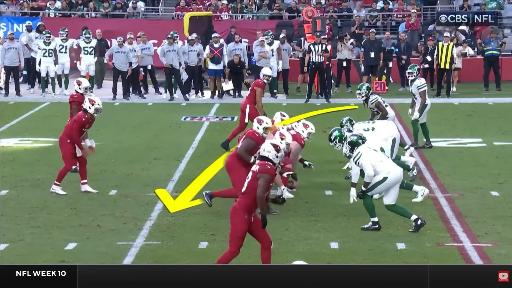Helmet: (259, 140, 283, 165), (344, 134, 366, 158), (274, 129, 292, 152), (253, 116, 272, 136), (295, 121, 315, 140), (83, 97, 102, 116), (329, 128, 343, 150), (74, 78, 90, 96), (356, 83, 371, 100), (406, 64, 419, 79), (260, 68, 272, 83), (273, 112, 289, 123), (82, 29, 93, 43), (340, 117, 354, 127), (342, 127, 353, 137), (264, 31, 273, 43), (43, 30, 51, 42), (59, 28, 68, 38), (170, 31, 179, 41)
Jersey: (234, 162, 275, 213), (351, 143, 402, 182), (61, 112, 95, 150), (354, 120, 397, 147), (237, 128, 265, 155), (368, 93, 394, 116), (243, 79, 265, 106), (410, 78, 430, 107), (78, 39, 97, 64), (56, 39, 75, 63), (69, 92, 85, 120), (39, 42, 56, 66), (289, 131, 305, 148), (268, 41, 279, 65)
Player: (216, 141, 285, 263), (343, 134, 425, 232), (204, 116, 272, 206), (51, 97, 102, 195), (341, 120, 418, 181), (221, 68, 271, 151), (406, 64, 432, 148), (284, 120, 314, 190), (267, 127, 294, 198), (356, 83, 395, 121), (36, 31, 58, 97), (357, 83, 395, 121), (288, 120, 315, 170), (56, 28, 76, 95), (77, 30, 98, 91), (264, 31, 282, 98), (356, 130, 397, 159), (68, 78, 90, 122), (170, 31, 183, 47), (273, 112, 289, 123)
